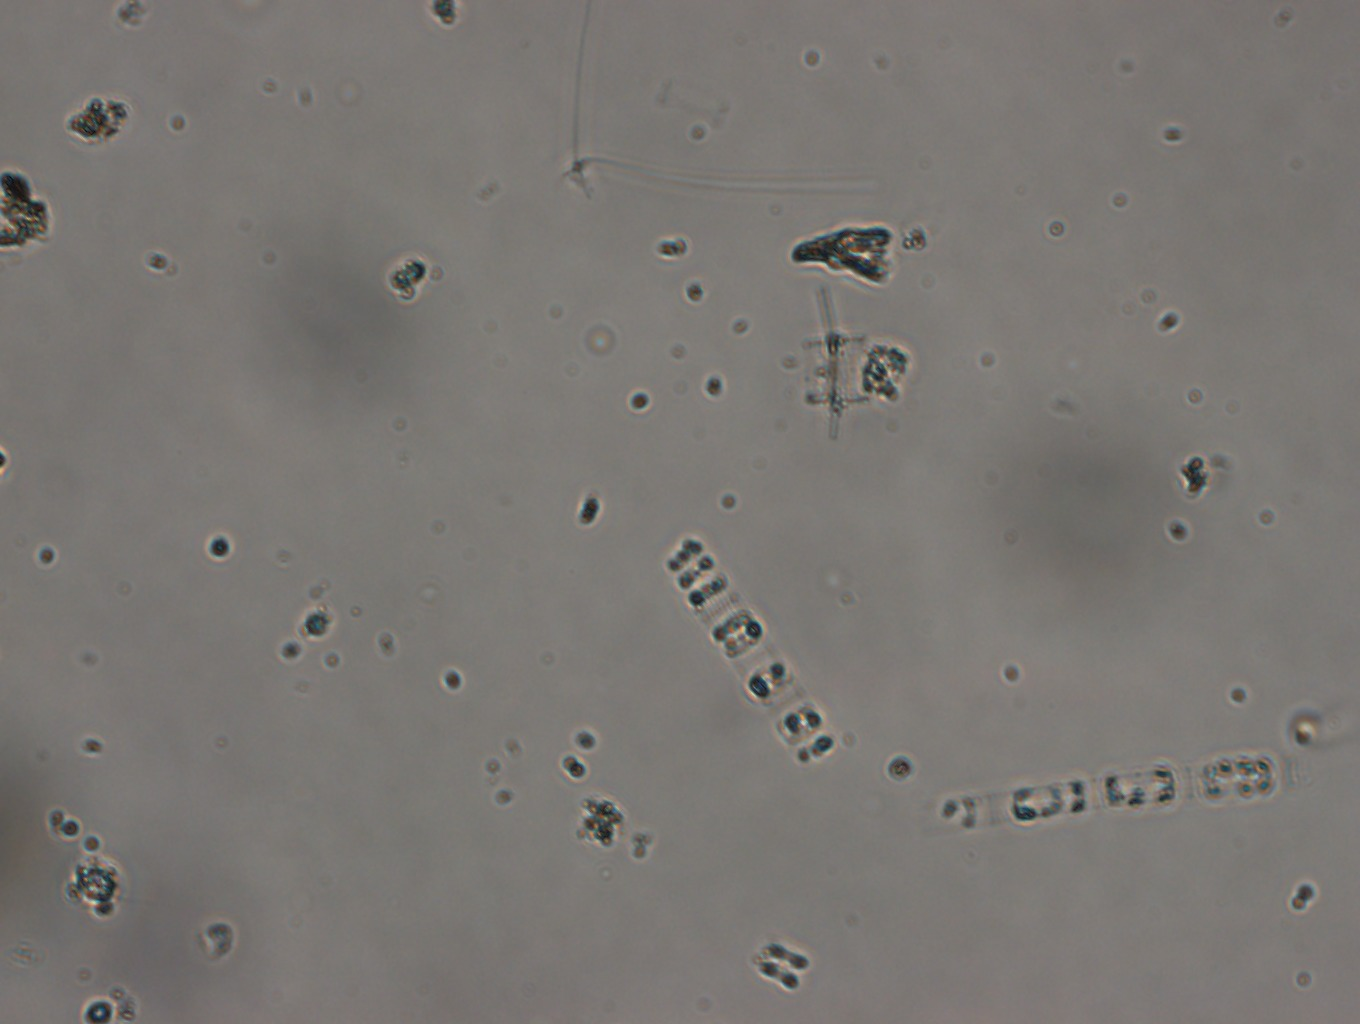skeletonema: (665, 520, 849, 772), (919, 755, 1288, 831)
